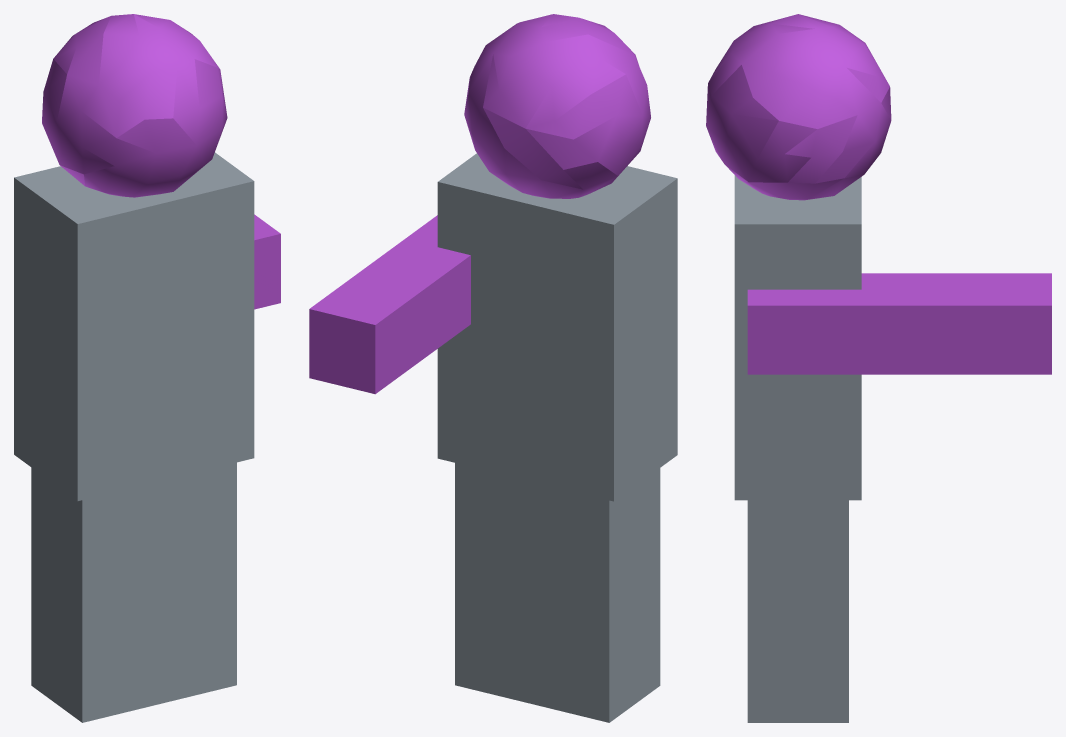
Rendered from CH_AporiaSniper_LOD2.glb.
3 views of the same model, side by side, from view 1: azimuth 30°, elevation 25°; view 2: azimuth 150°, elevation 25°; view 3: azimuth 270°, elevation 25° (orthographic).
Parts seen in each view (by area): view 1: Head; view 2: Head; view 3: Head.
Part boxes in pixels (x1=…): Head: x1=14, y1=14, x2=280, y2=722; Head: x1=309, y1=14, x2=677, y2=722; Head: x1=706, y1=14, x2=1051, y2=722.
Size of the model in its own units: 57 by 172 by 81.81.
